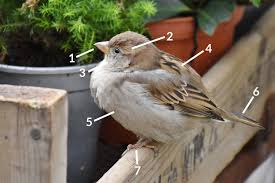hsparrow: (90, 27, 265, 156)
